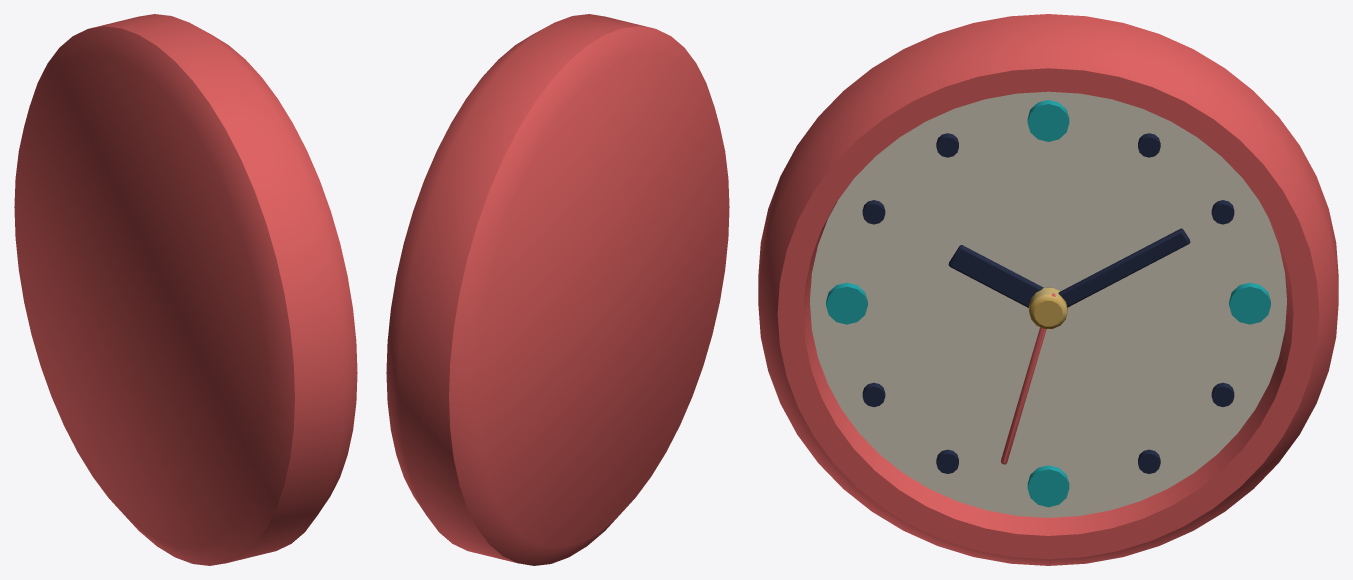
Rendered from wall_clock.glb.
3 renders of one model, left to right at view 1: azimuth 30°, elevation 25°; view 2: azimuth 150°, elevation 25°; view 3: azimuth 270°, elevation 25°, orthographic. The views are drawn at different scales.
Parts seen in each view (by area): view 1: WallClock; view 2: WallClock; view 3: WallClock.
Part boxes in pixels (box(x1,y1,x2,y2)): WallClock: box(14, 14, 357, 565); WallClock: box(386, 14, 729, 565); WallClock: box(758, 14, 1338, 565).
Size of the model in its own units: 0.066 by 0.36 by 0.36.
